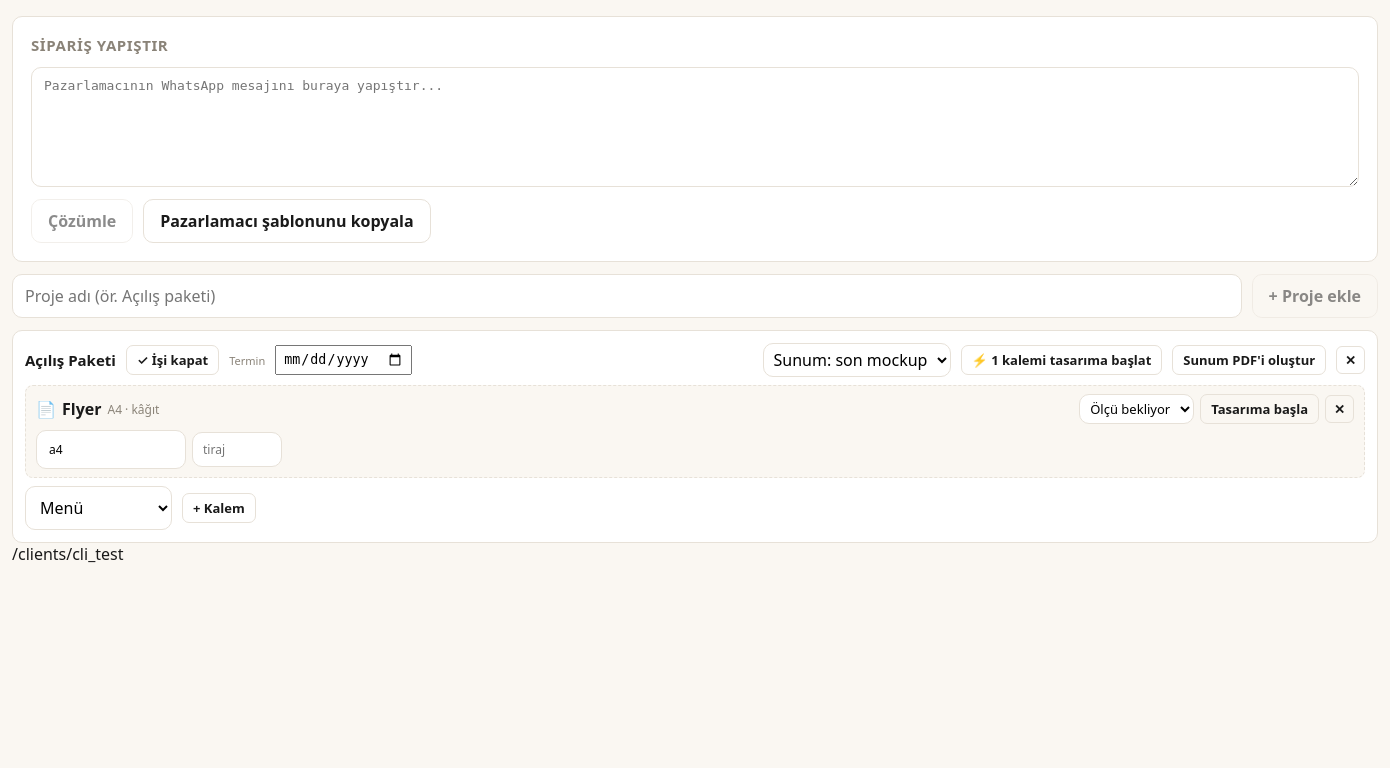
Test case: ProjectsPanel · startDesign geri sarma zinciri › params'sız tür (flyer): updateDocument HİÇ koşmadan kalem bağlanır
Click the button "Tasarıma başla".
click(1260, 409)  # box [1200,394,1319,424]
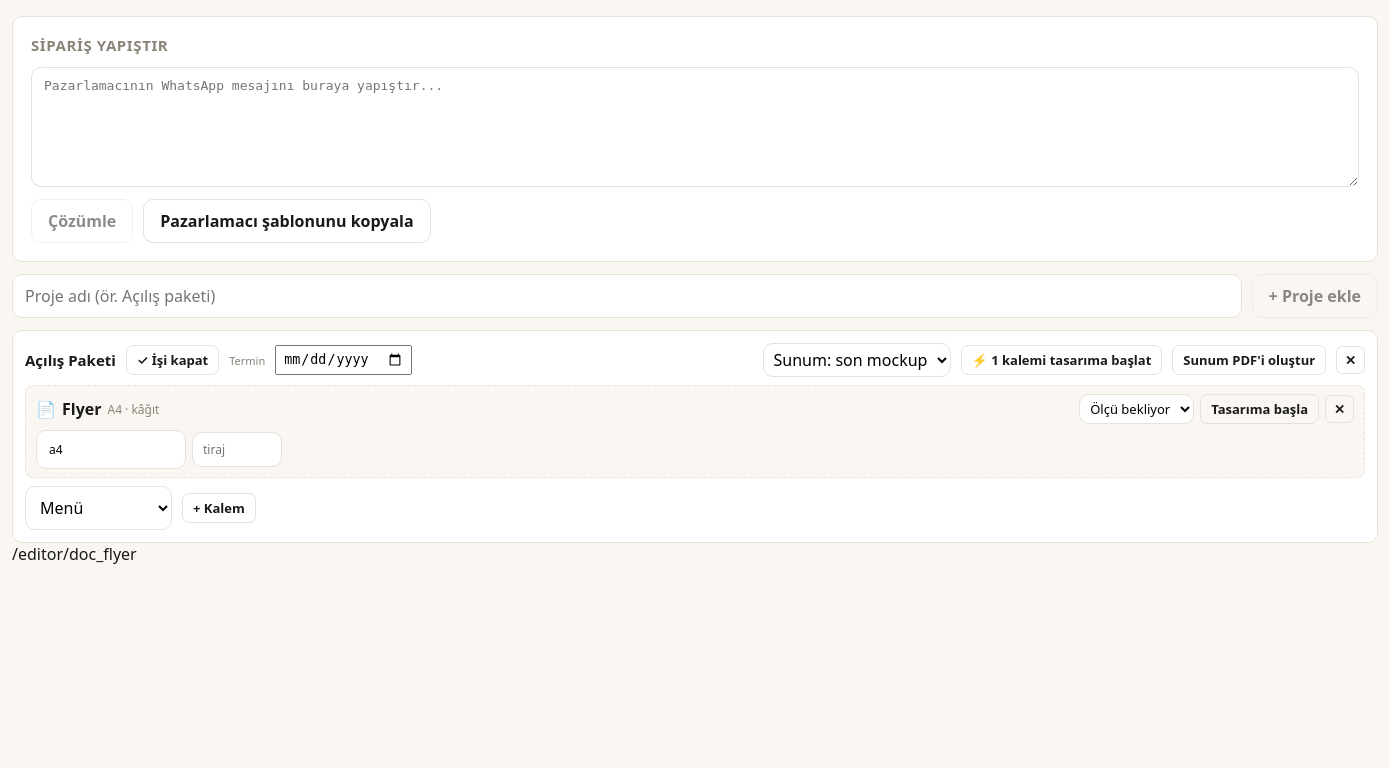
Check: the text with test id "konum" reads "/editor/doc_flyer", box [12,543,137,565]
